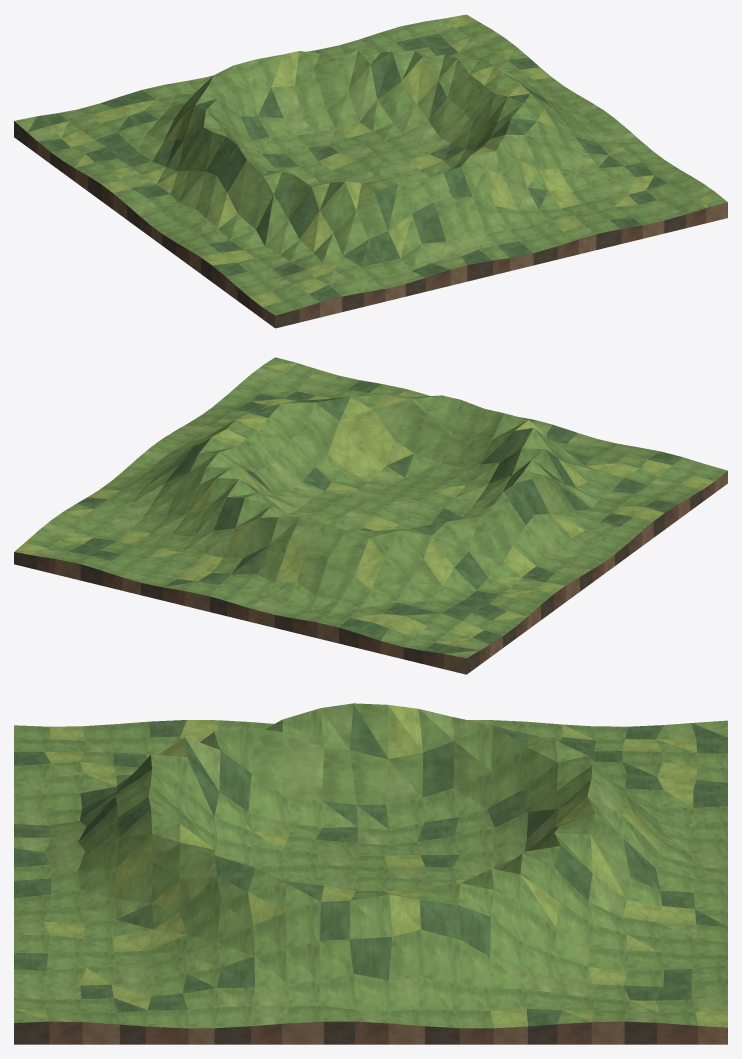
The model's file is crater_dry.fbx.
3 views of the same model, one above another, from view 1: azimuth 30°, elevation 25°; view 2: azimuth 150°, elevation 25°; view 3: azimuth 270°, elevation 25° (orthographic). The views are drawn at different scales.
Visible parts, largest first — view 1: crater_dry; view 2: crater_dry; view 3: crater_dry.
Part boxes in pixels (<box>): crater_dry: <box>14,14,727,328</box>; crater_dry: <box>14,357,727,674</box>; crater_dry: <box>14,703,727,1044</box>.
Bounding box in the file's own units: 3000 × 450 × 3000.
1 material, 1 textured.
